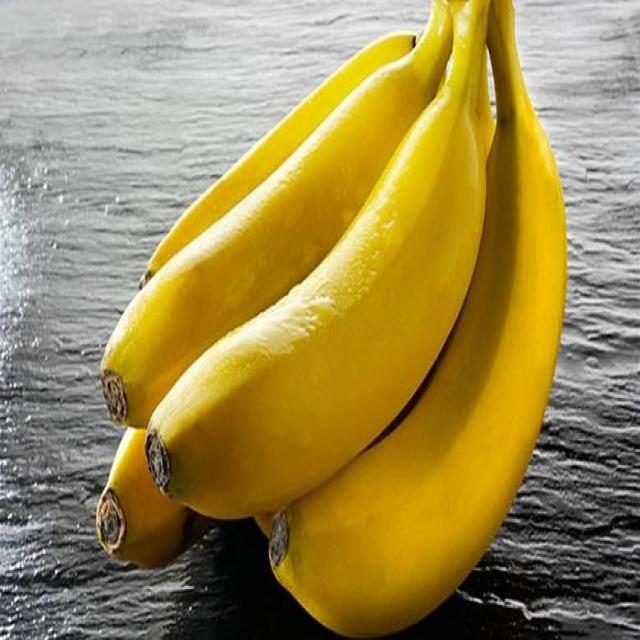banana: (99, 2, 567, 640)
